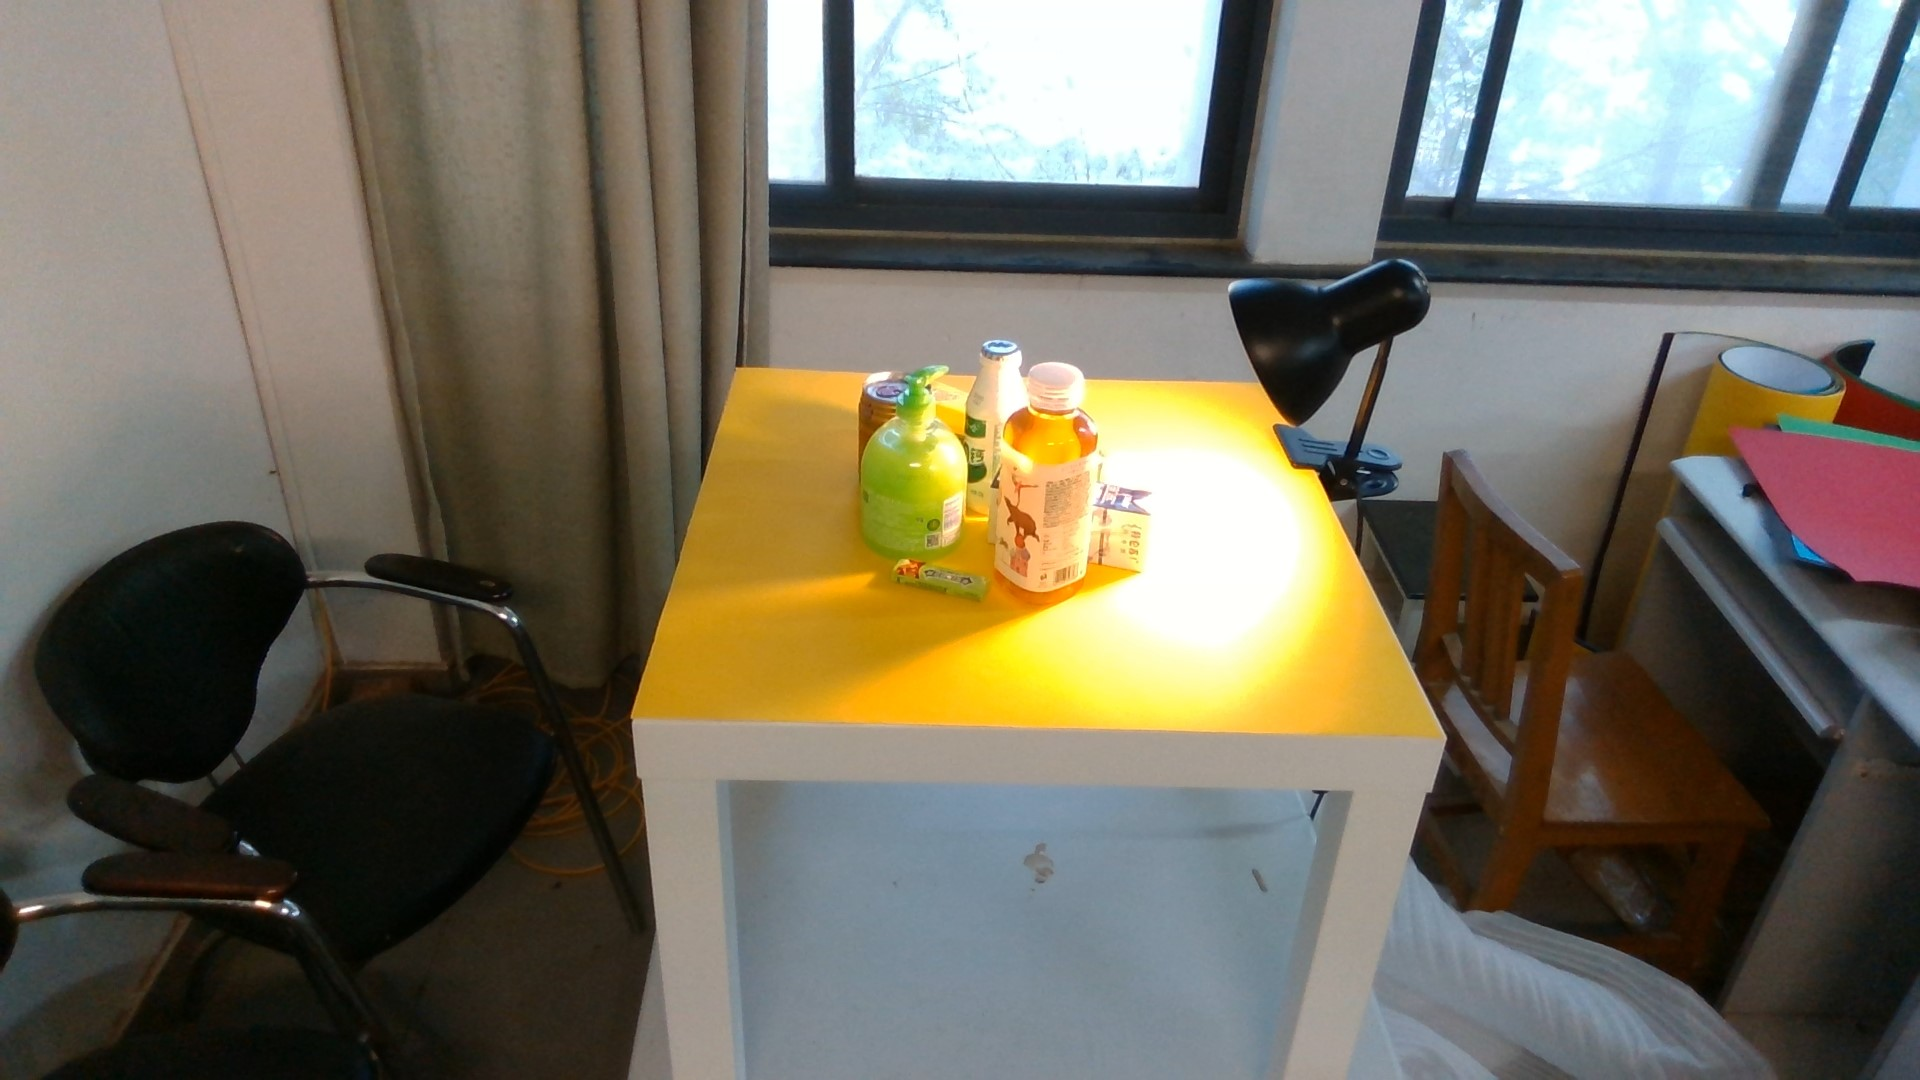BB002: (895, 560, 990, 605)
BB010: (1100, 485, 1154, 571)
ZA002: (855, 419, 968, 556)
ZC004: (858, 373, 902, 423)
ZC005: (969, 338, 996, 521)
ZC011: (938, 386, 967, 427)
ZC012: (1001, 363, 1100, 607)
